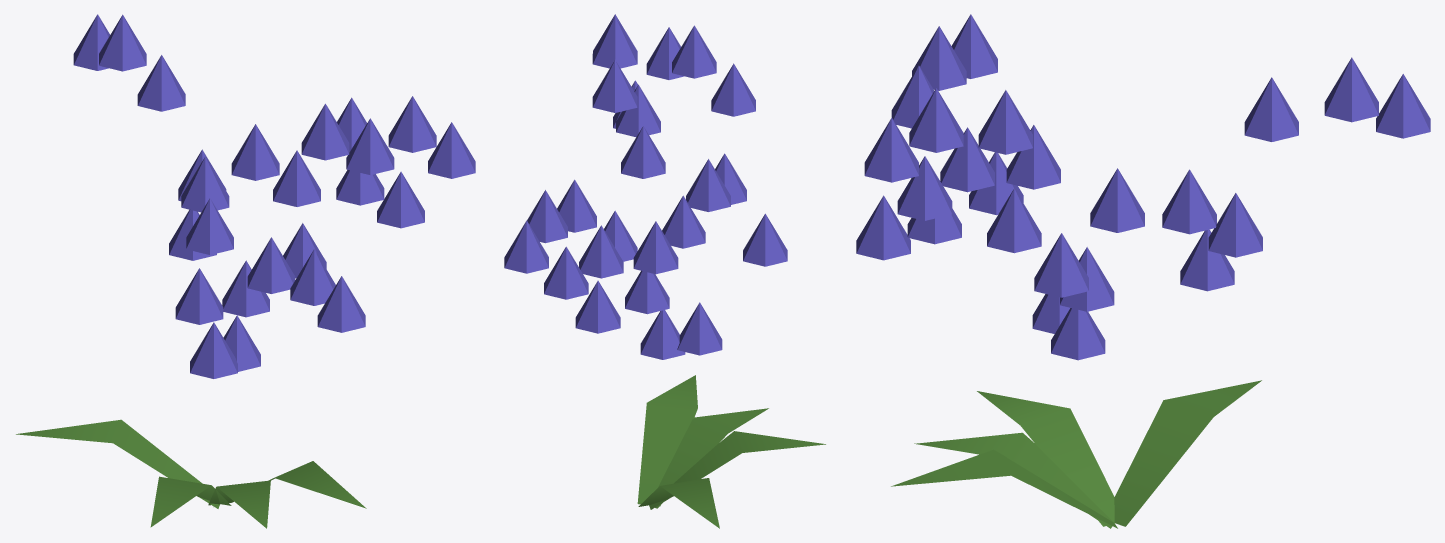
The model's file is bluebells_1_mid.glb.
3 views of the same model, side by side, from view 1: azimuth 30°, elevation 25°; view 2: azimuth 150°, elevation 25°; view 3: azimuth 270°, elevation 25° (orthographic). The views are drawn at different scales.
Parts seen in each view (by area): view 1: bluebells_1_mid; view 2: bluebells_1_mid; view 3: bluebells_1_mid.
Boxes of the visible parts, bbox=[...] form: bluebells_1_mid: bbox=[16, 14, 475, 528]; bluebells_1_mid: bbox=[504, 14, 825, 528]; bluebells_1_mid: bbox=[856, 14, 1430, 528].
Bounding box in the file's own units: 0.2747 × 0.3956 × 0.4011.
